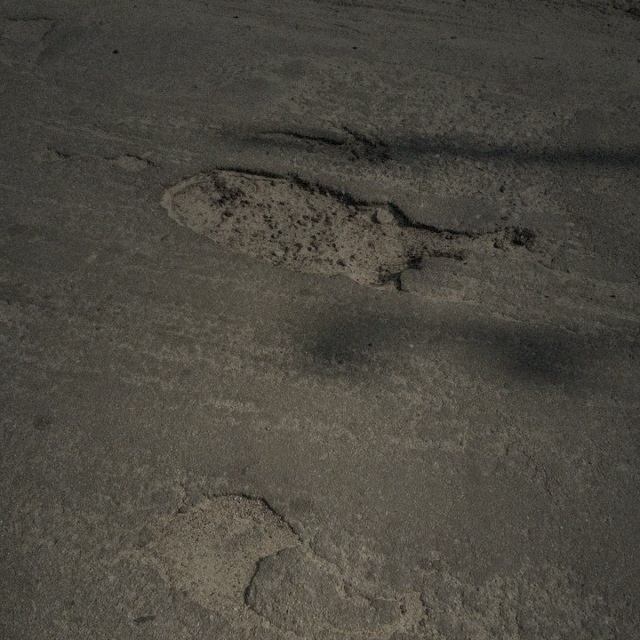pothole: (154, 162, 538, 294), (153, 489, 304, 631), (251, 122, 393, 167), (0, 10, 59, 45), (104, 150, 152, 172)
